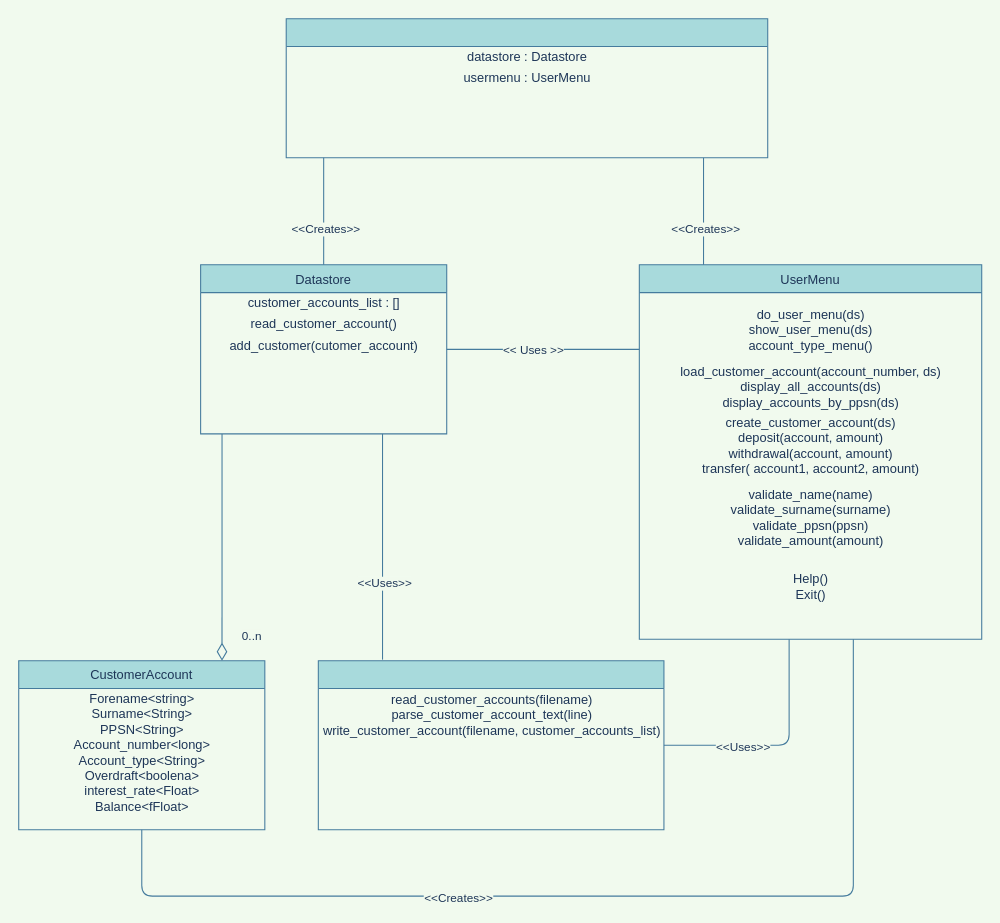
The diagram is 1000 pixels wide and 923 high, and some of its shapes have lost their labels. Here are the shapes that lost their labels. From the top down, the box of each, then its label:
(285, 18, 768, 158): Program
(317, 660, 664, 830): FIleParser
